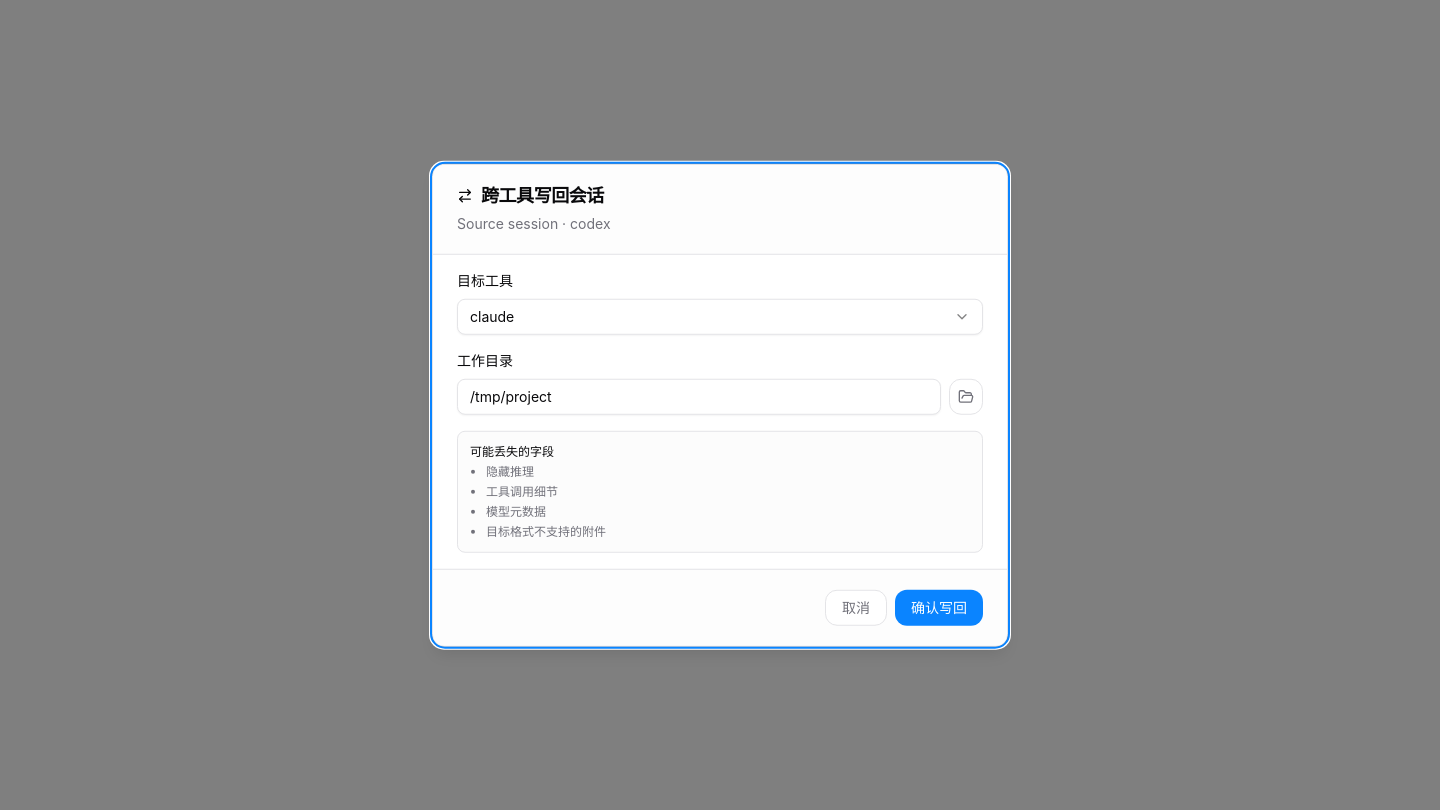
SessionTransferDialog › lets the user choose a workspace and reports a completed transfer
Click the button named "选择目录" at (966, 396), box 949,378 -> 983,414
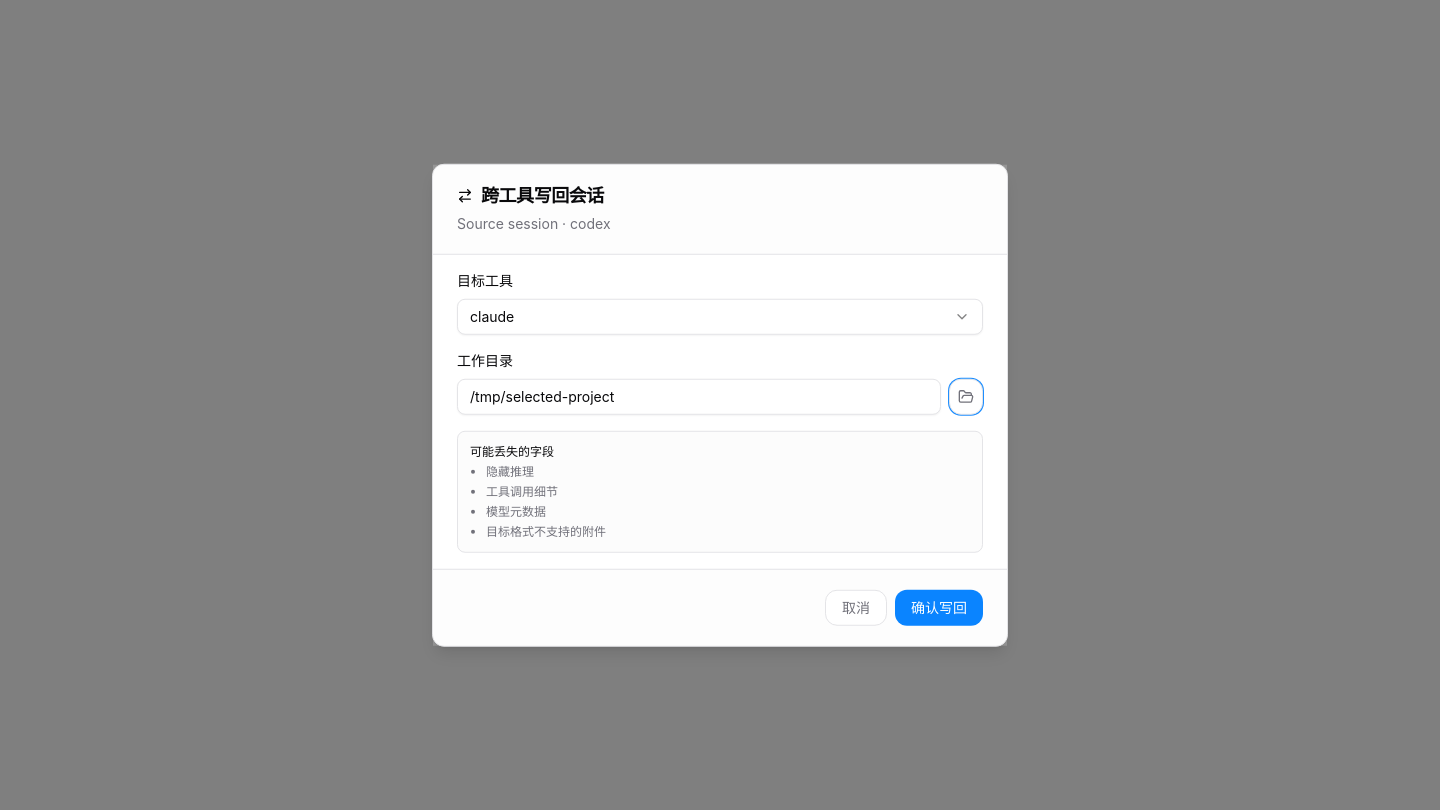
Result: the field showing "/tmp/selected-project" is shown at 457,378 -> 941,414
Click the button "确认写回" at (939, 607), box 895,589 -> 983,625
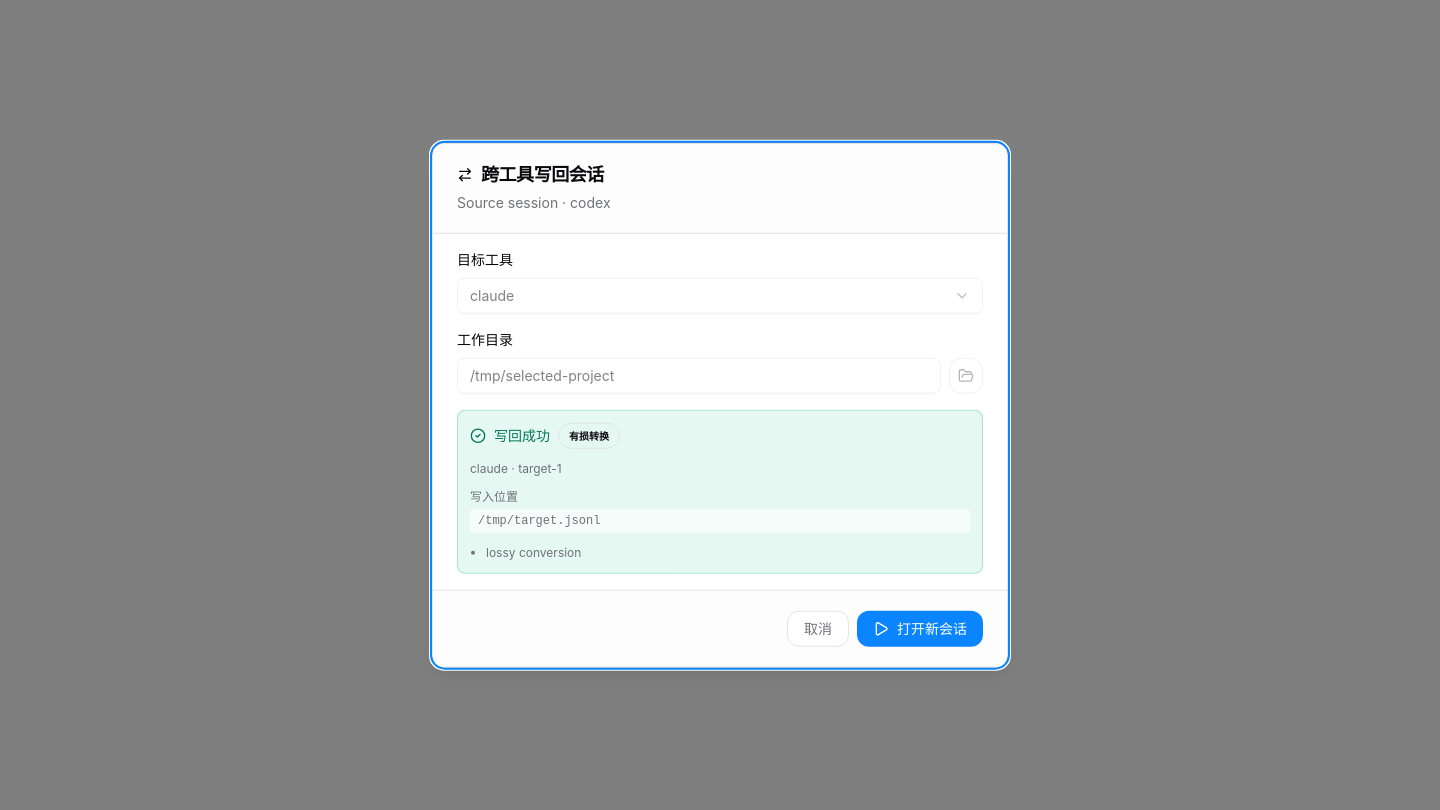
Result: the message shows "写回成功" at 494,426 -> 550,443
Result: the list item "lossy conversion" is shown at 486,544 -> 581,559
Result: the text "/tmp/target.jsonl" is shown at 470,508 -> 970,532
